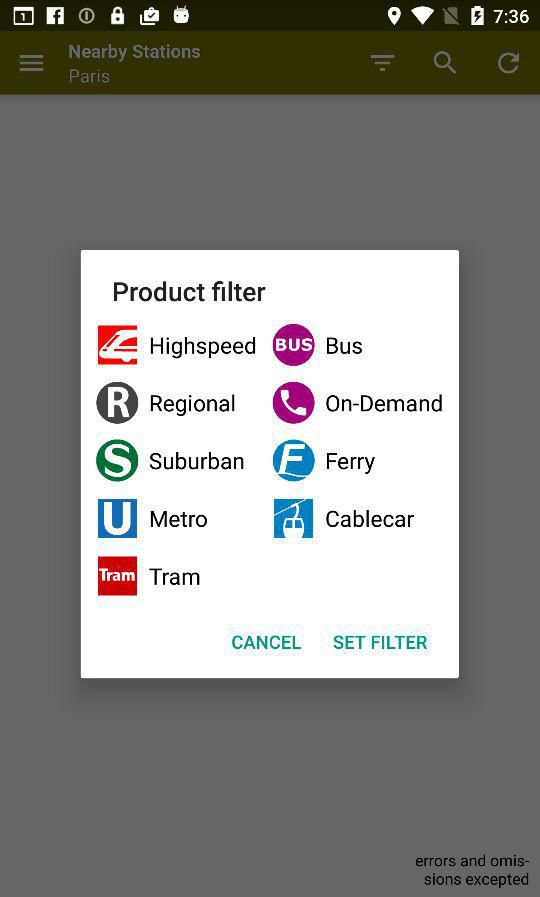Icon: (433, 51, 457, 76), (497, 52, 520, 76), (369, 55, 395, 73), (19, 55, 45, 73)
Image: (96, 439, 140, 483), (273, 324, 316, 368), (273, 382, 316, 426), (272, 439, 316, 482), (96, 382, 139, 425), (98, 325, 139, 366), (98, 556, 138, 597), (274, 499, 314, 539), (98, 499, 138, 539)
Modal: (81, 250, 460, 679)
Text: (415, 855, 529, 889), (114, 281, 267, 302), (68, 45, 201, 64), (151, 337, 256, 360), (326, 394, 443, 413), (151, 394, 236, 417), (150, 452, 244, 471), (325, 509, 415, 528), (333, 635, 428, 650), (326, 453, 376, 475), (232, 635, 303, 650), (149, 567, 201, 586), (151, 511, 208, 528), (69, 69, 110, 85), (327, 337, 363, 355)
UpperTaskBar: (1, 1, 540, 33)
